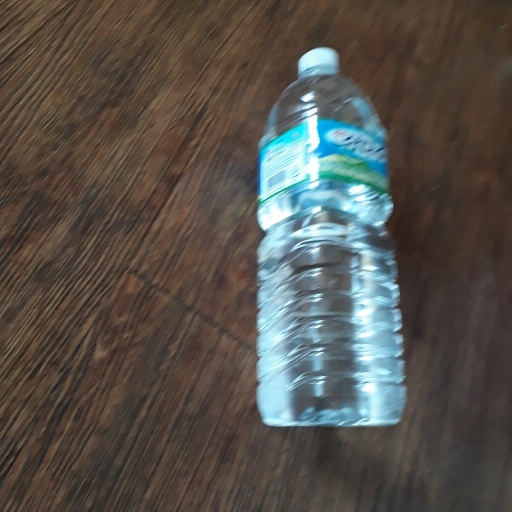Plastic_0: (251, 45, 413, 429)
